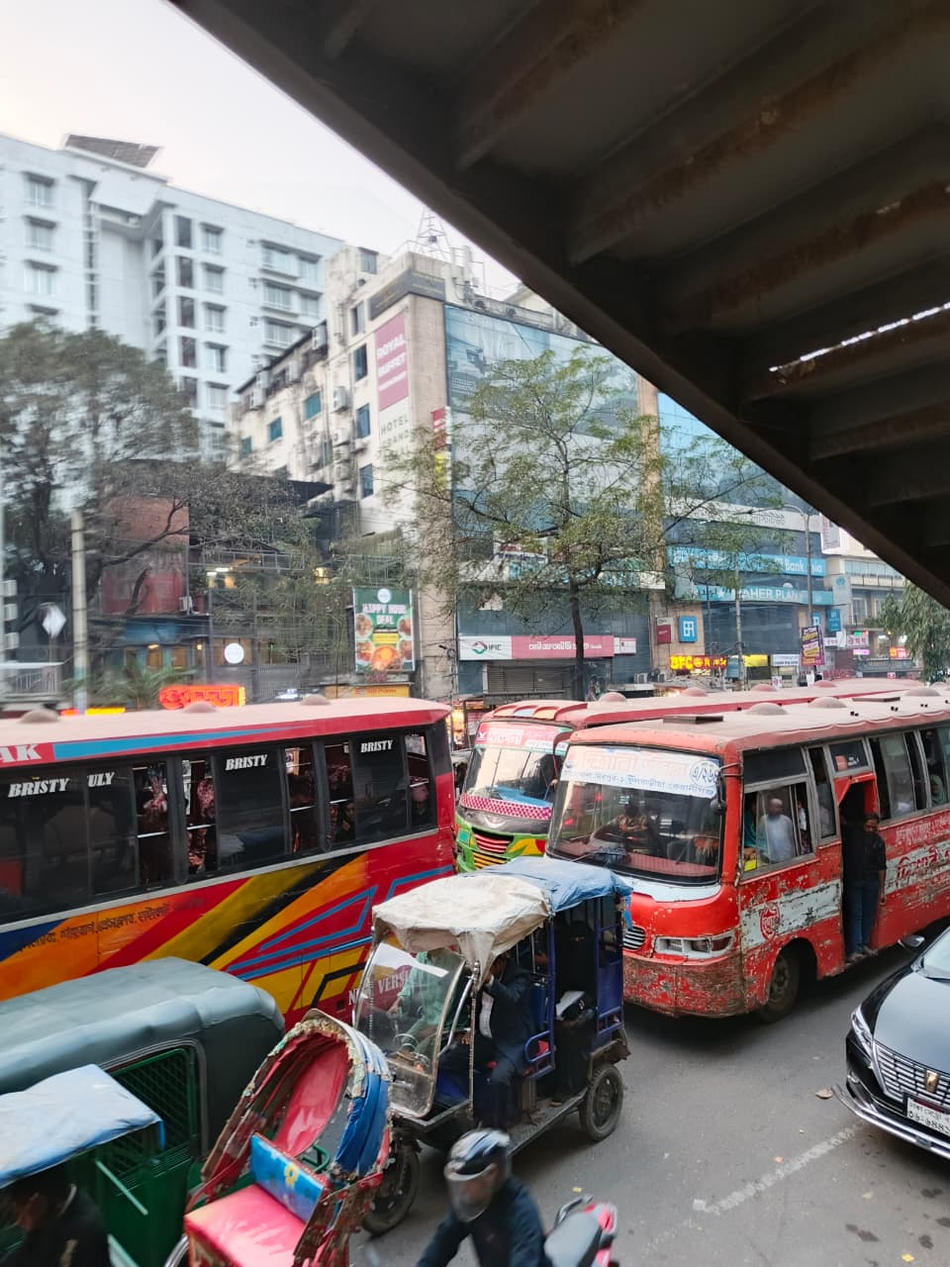Bus: (567, 681, 950, 1029), (0, 691, 471, 961)
auto-ricksaw: (343, 839, 644, 1159)
cng: (0, 935, 292, 1172)
private car: (838, 908, 950, 1172)
